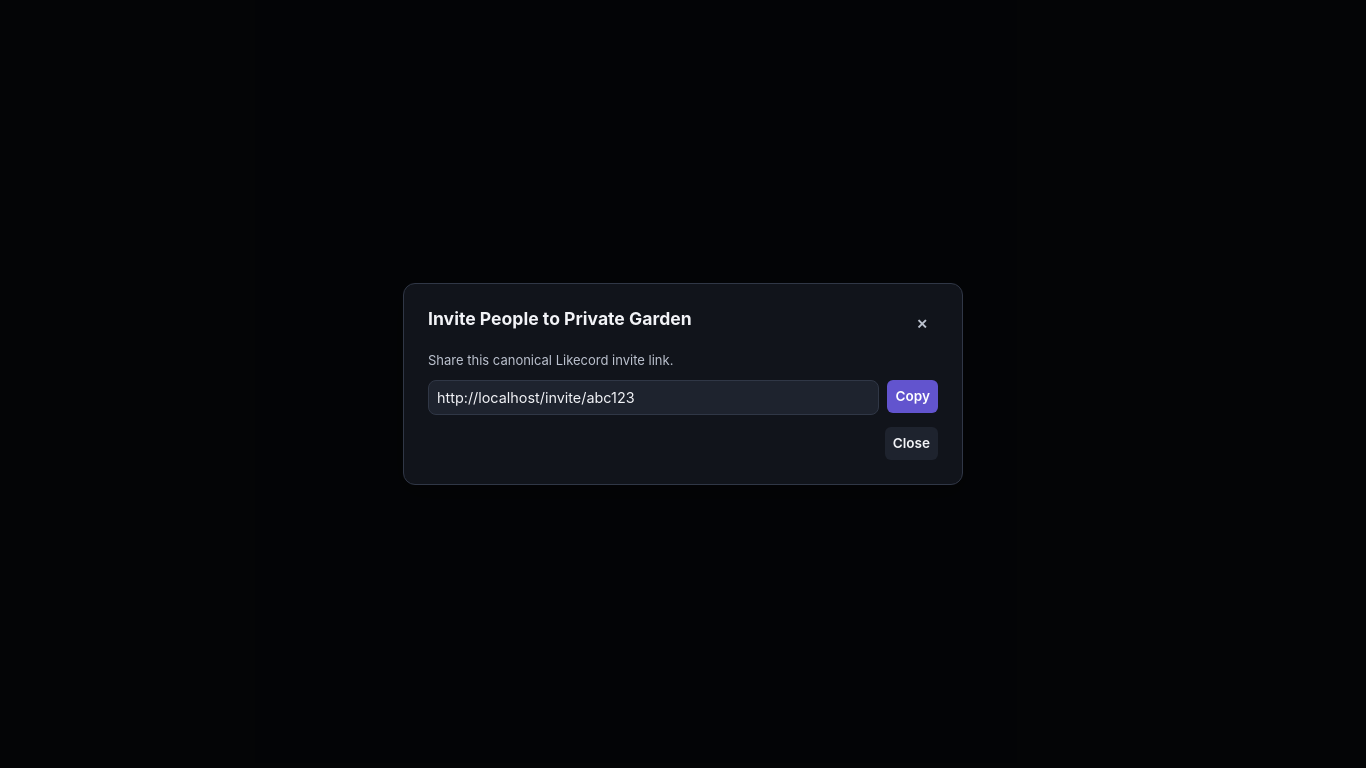
Test: F.5.3 canonical Invite People modal › copies the canonical URL and shows Copied feedback
Click the button "Copy". click: (913, 396)
box: [888,380,938,413]
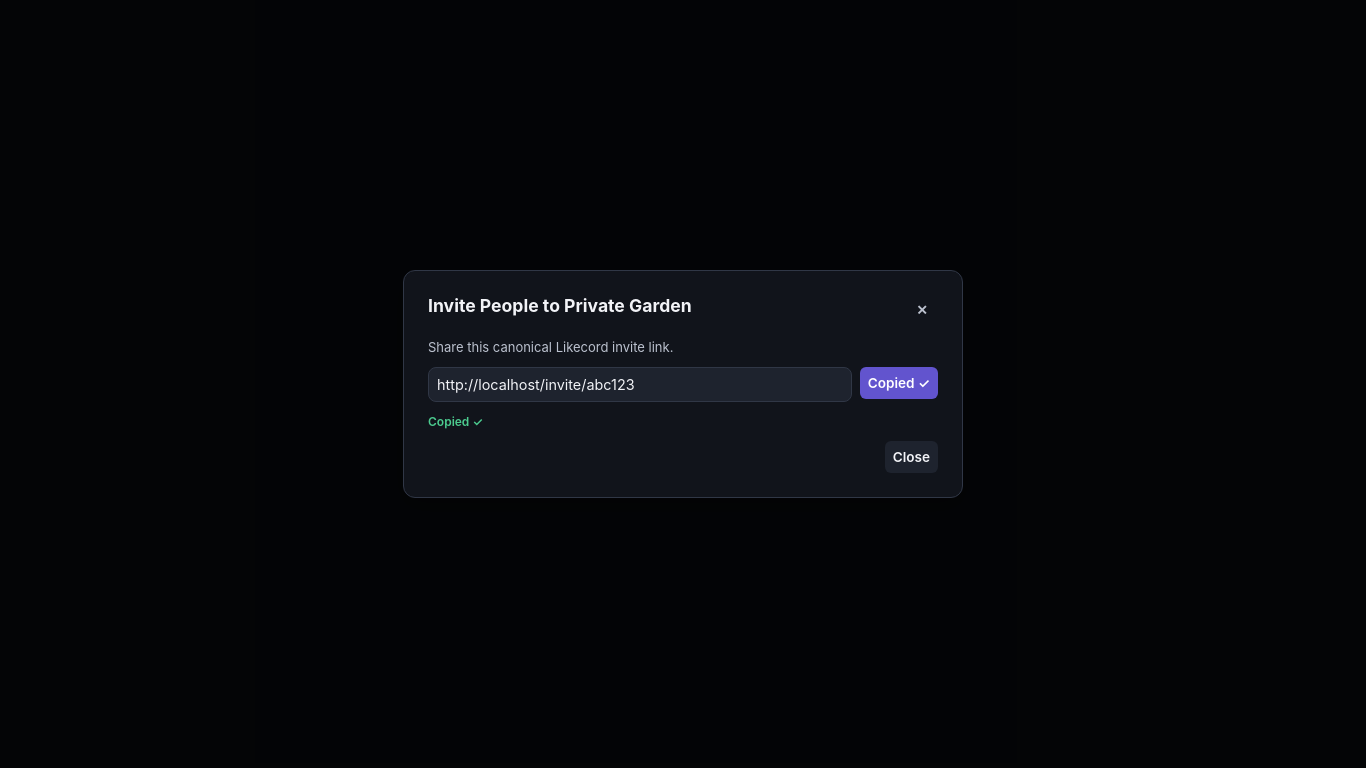
Expected: the button "Copied ✓" is shown, [860,366,938,400]
